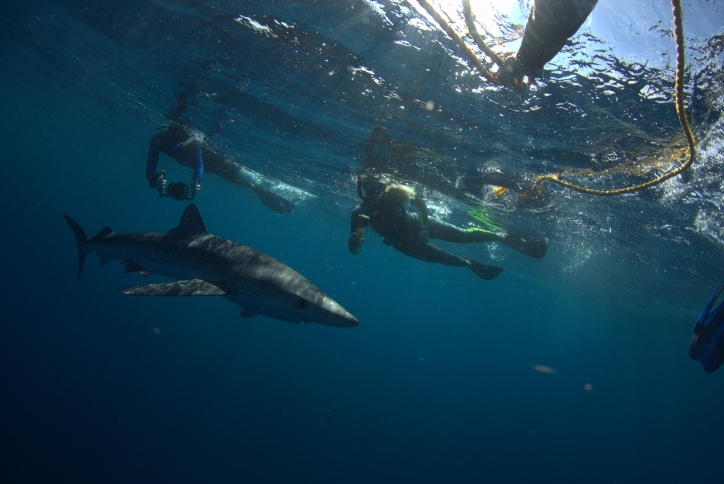Azul: (57, 202, 368, 354)
